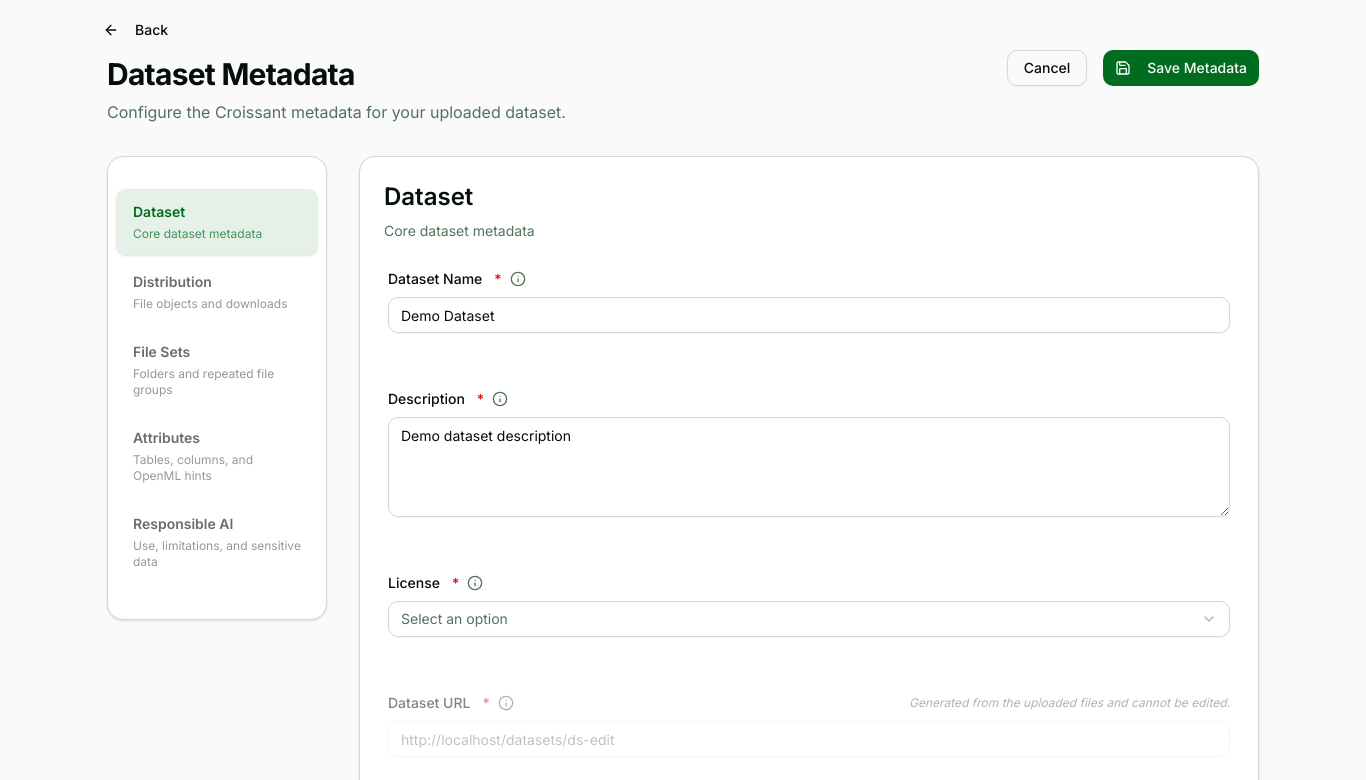
Test: CroissantMetadataPage › keeps storage-derived metadata read-only for uploaders
Expected: the field showing "Demo Dataset" is shown, [388,297,1230,333]
Expected: the field labelled "Dataset URL *" is disabled, [388,721,1230,757]
Click the tab "Distribution File objects and downloads": (217, 292) [116,259,318,325]
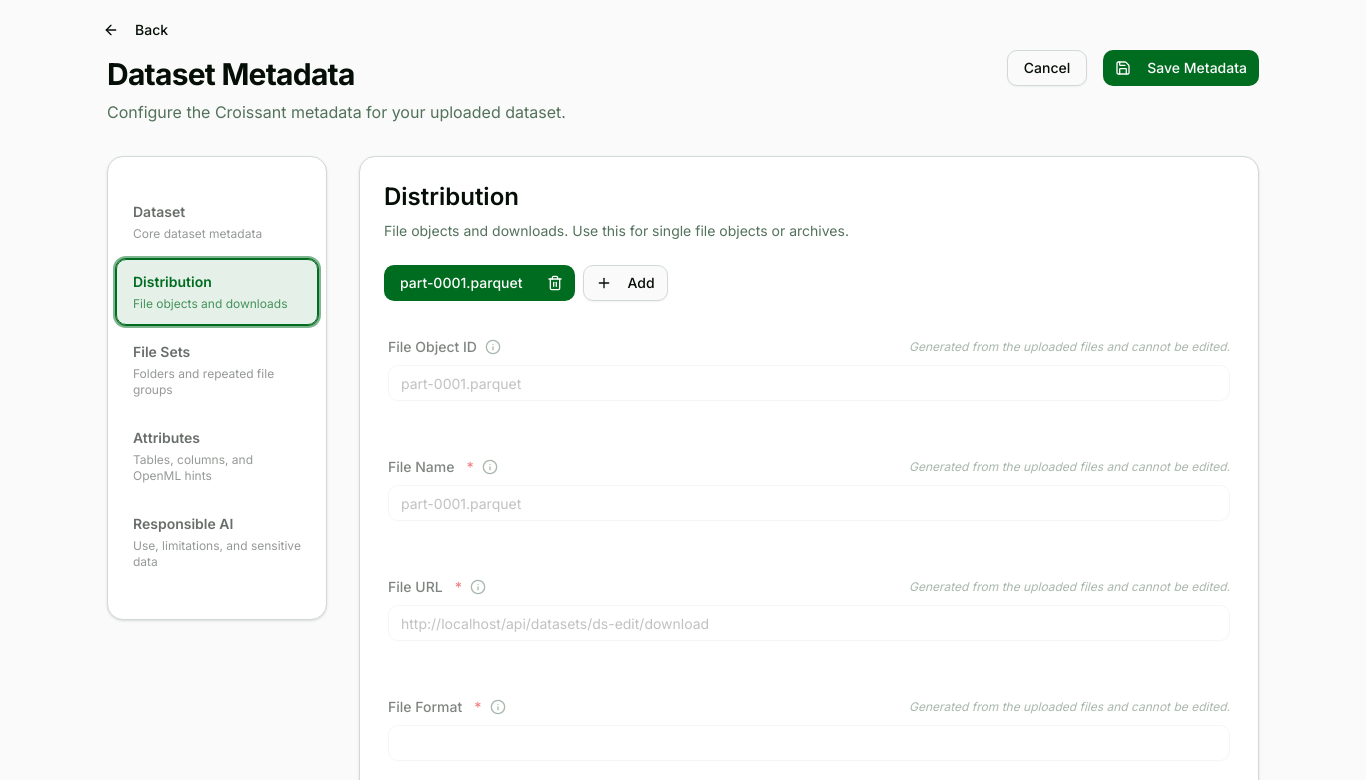
Expected: the field labelled "File Object ID" is disabled, [388,365,1230,401]
Expected: the field labelled "File Name *" is disabled, [388,485,1230,521]
Expected: the field labelled "File URL *" is disabled, [388,605,1230,641]
